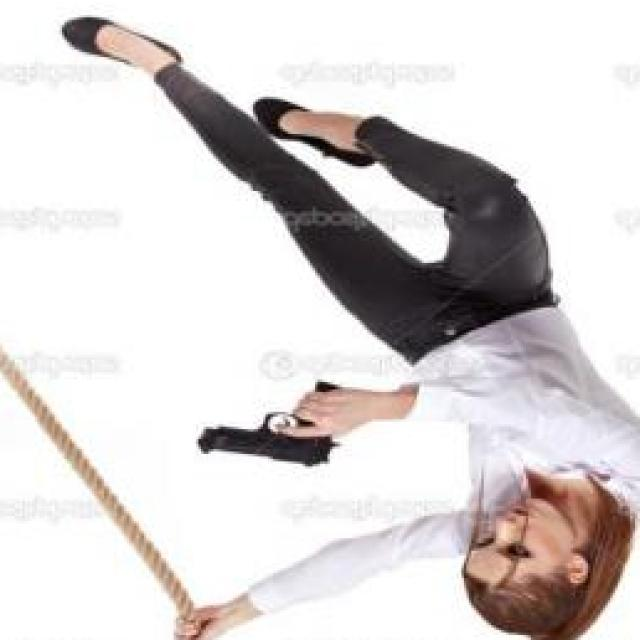pistol: (196, 378, 350, 472)
